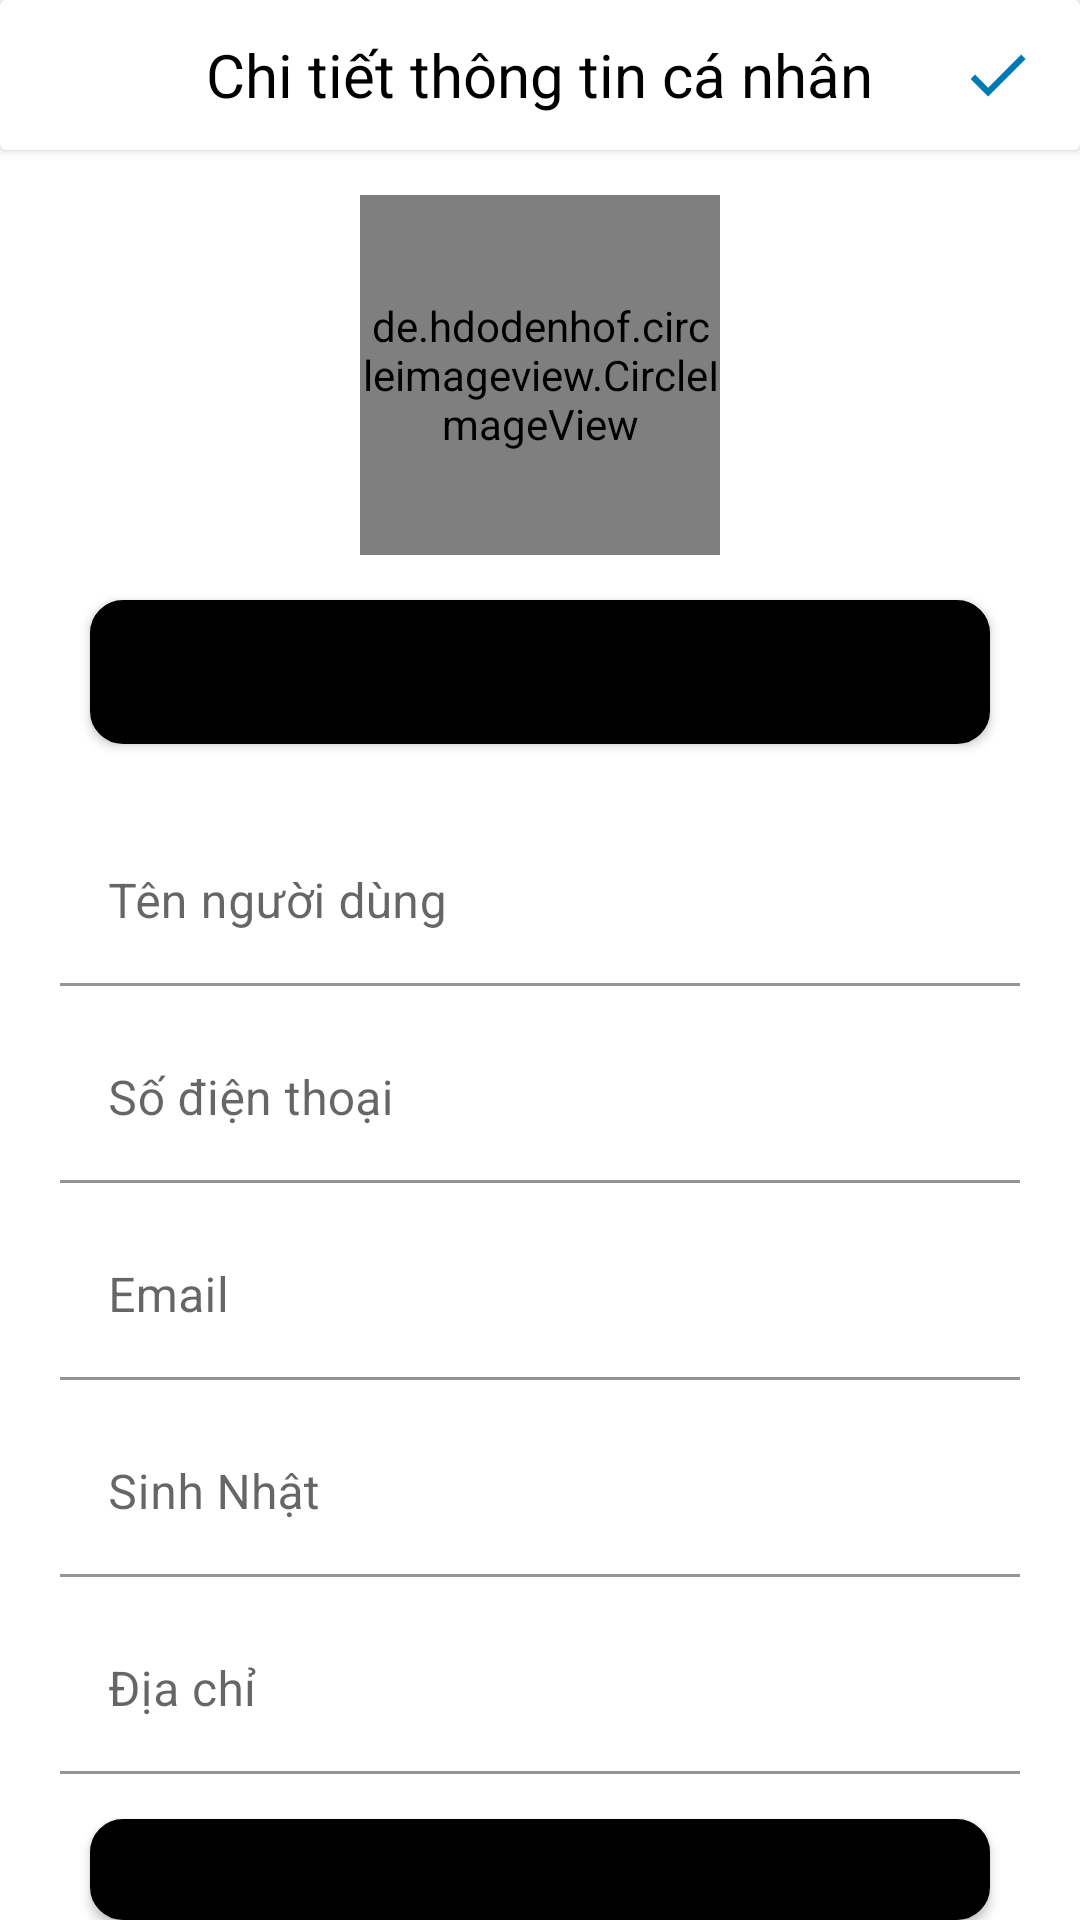

Point at icon controls on the screen. Image size 1080w x 1920h, points as (x=x, y=y).
done: (x=998, y=75)
